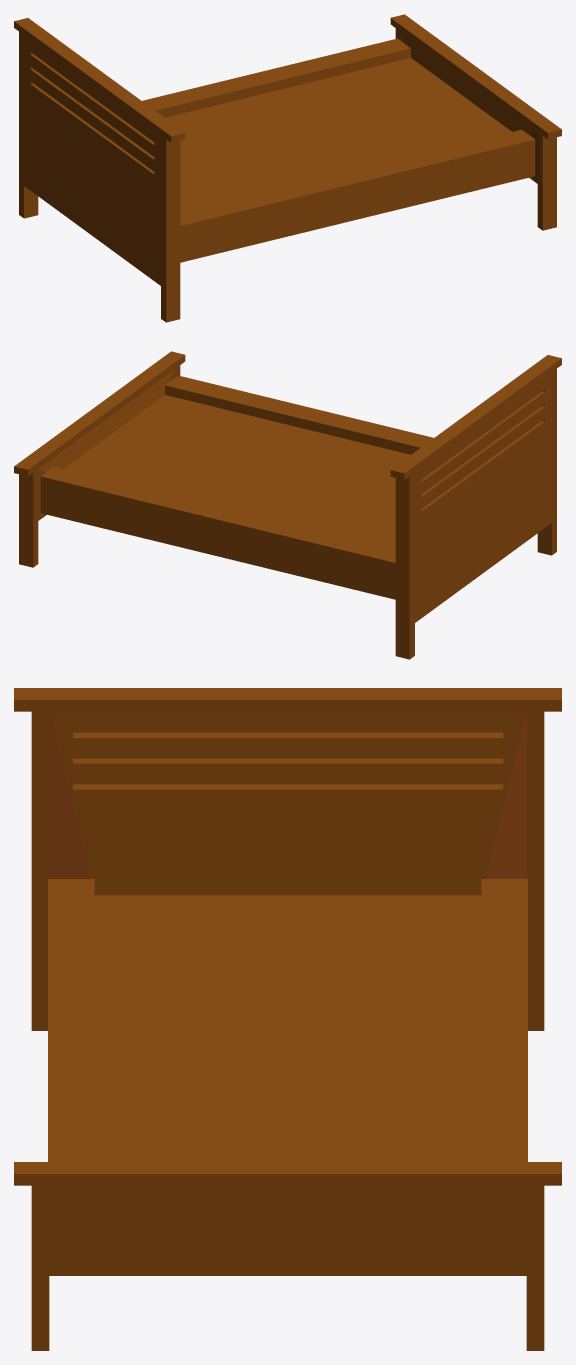
File: Cama.fbx
The picture shows the model from 3 angles, top to bottom: view 1: azimuth 30°, elevation 25°; view 2: azimuth 150°, elevation 25°; view 3: azimuth 270°, elevation 25°; orthographic projection. The views are drawn at different scales.
Visible parts, largest first — view 1: Cama; view 2: Cama; view 3: Cama.
Part boxes in pixels (x1,y1,x2,y2): Cama: (14, 14, 561, 322); Cama: (14, 351, 561, 659); Cama: (14, 688, 561, 1350).
Size of the model in its own units: 1076 by 500 by 751.
